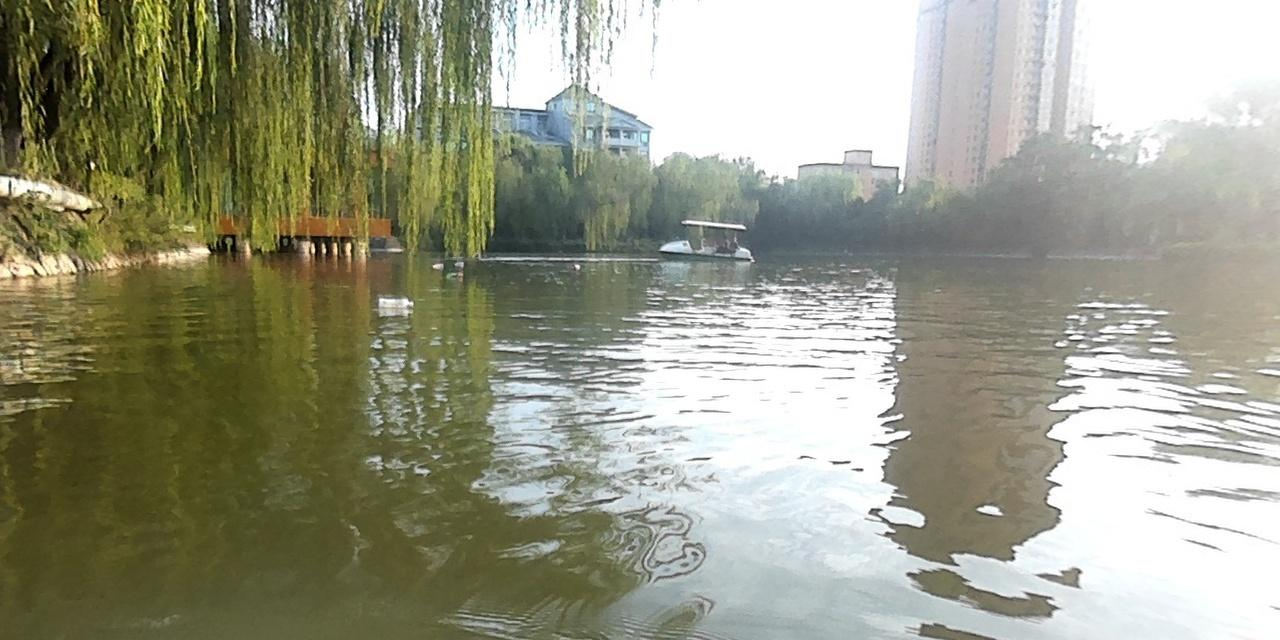bottle: (374, 293, 414, 308), (445, 269, 462, 278), (450, 260, 467, 266), (430, 260, 442, 268)
